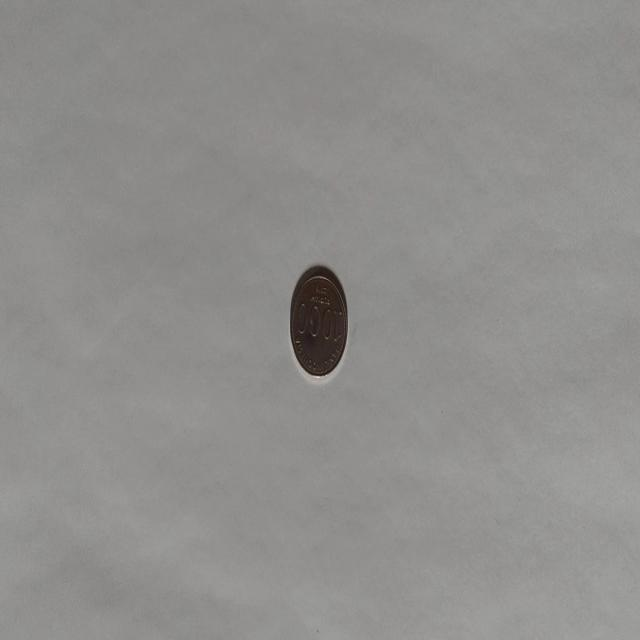seribu rupiah koin: (288, 264, 348, 380)
